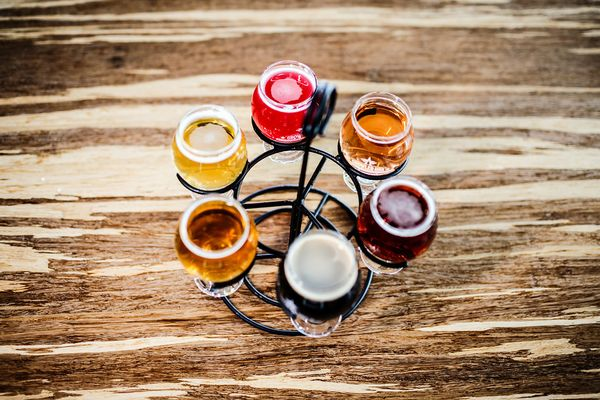pizza: (172, 104, 249, 194), (339, 91, 415, 178), (281, 227, 362, 308)
